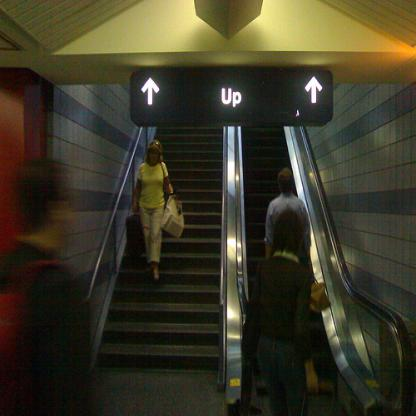stairs: (117, 290, 219, 380)
